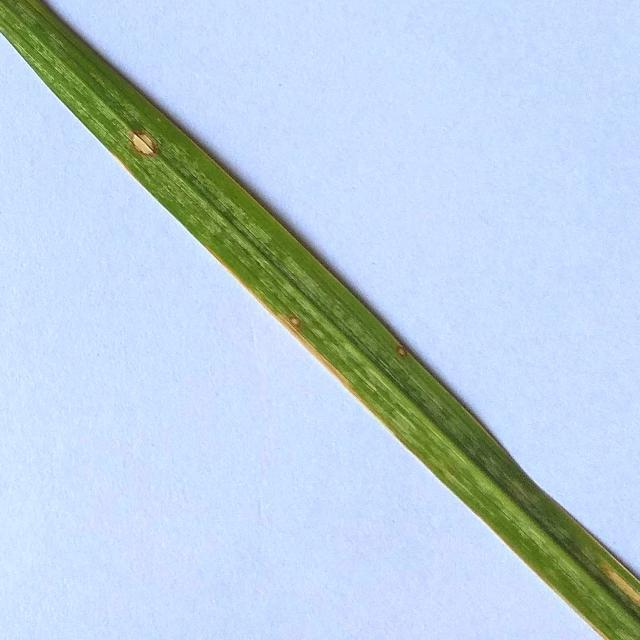Blast: (120, 122, 164, 160), (392, 346, 413, 366), (290, 314, 307, 330)
